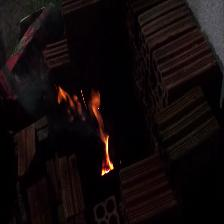fire: (86, 97, 120, 180)
